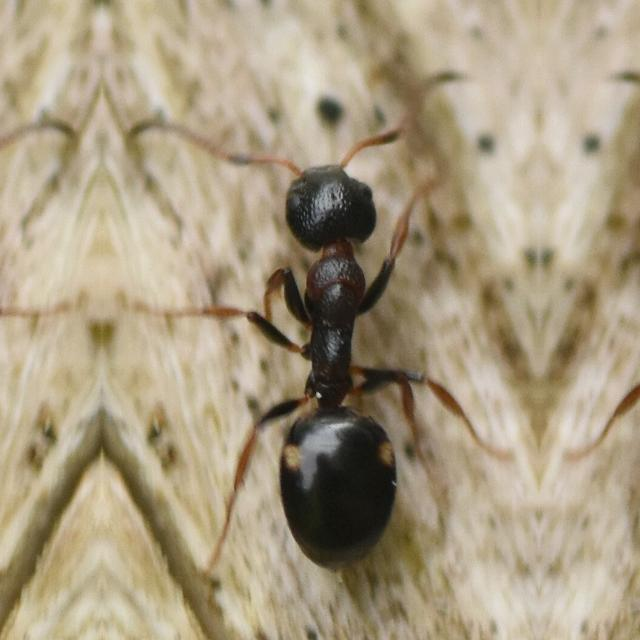Dolichoderus: (208, 92, 460, 616)
